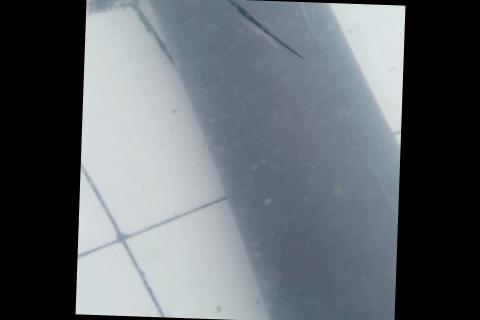keretakan: (169, 0, 307, 61)
